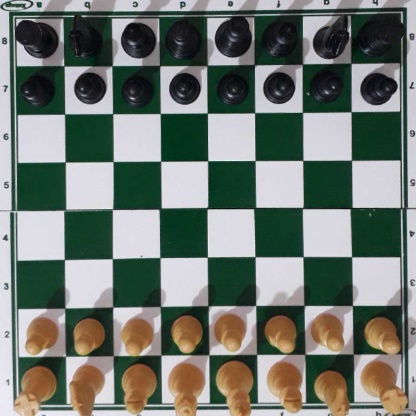black-bishop: (260, 20, 300, 58), (118, 22, 157, 58)
black-king: (212, 14, 252, 58)
black-knight: (313, 11, 350, 61), (67, 12, 100, 59)
black-pawn: (360, 69, 396, 105), (309, 68, 343, 102), (73, 69, 105, 104), (263, 68, 295, 103), (168, 71, 201, 104), (20, 72, 53, 104), (121, 71, 152, 105), (217, 70, 247, 104)
black-queen: (164, 17, 203, 60)
black-rook: (11, 16, 58, 57), (360, 10, 402, 55)
white-bishop: (265, 361, 302, 411), (121, 361, 154, 412)
white-king: (215, 360, 255, 416)
white-knight: (69, 363, 102, 413), (313, 368, 348, 414)
white-pawn: (212, 313, 247, 354), (310, 311, 346, 350), (364, 315, 400, 352), (22, 316, 57, 354), (120, 316, 153, 355), (263, 313, 296, 351), (170, 314, 202, 352), (71, 317, 104, 353)
white-queen: (166, 360, 205, 416)
white-rook: (362, 358, 405, 414), (15, 360, 55, 415)
